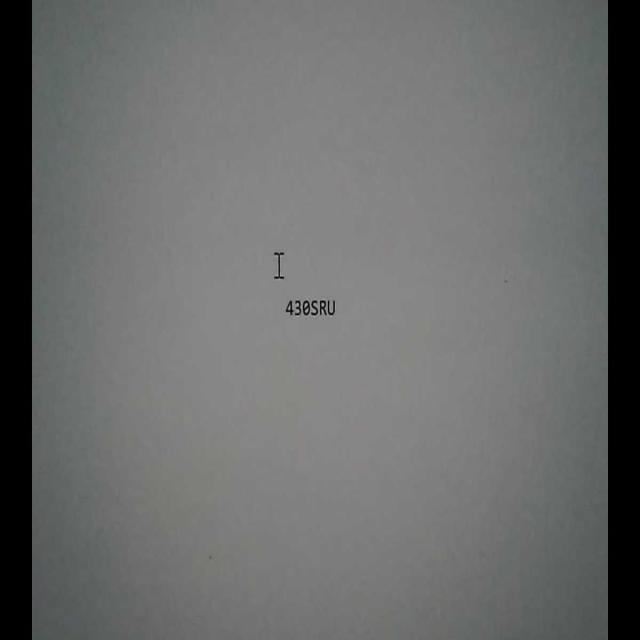license_plate: (282, 294, 346, 330)
